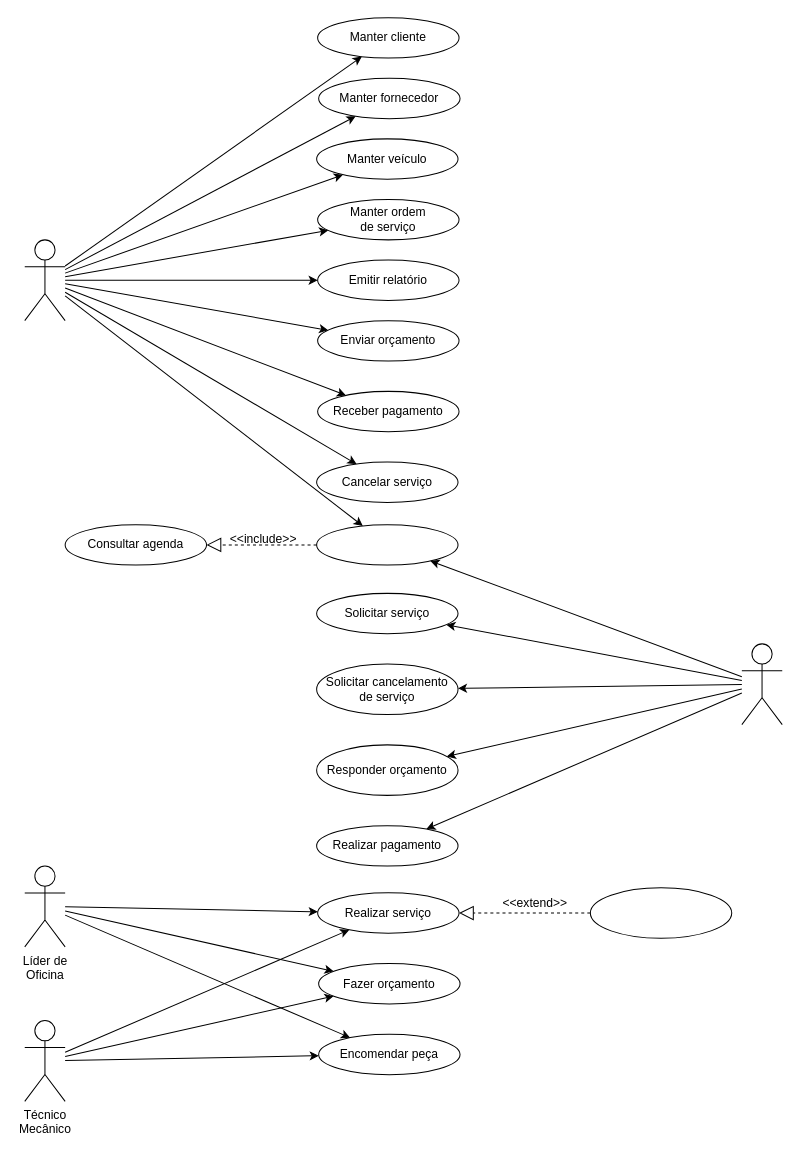
Image size: 800x1155. Some labels were removed from this diagram. The shapes that lost their labels are listed below. From the top down, each one's centre as x and y in pixels, then its label:
At [44,280]: "Atendente".
At [387,544]: "Marcar Serviço".
At [761,684]: "Cliente".
At [660,912]: "Realizar serviço urgente".
